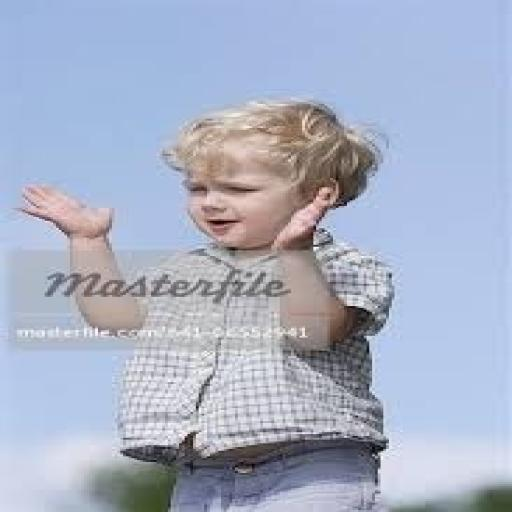clapping: (14, 95, 400, 510)
